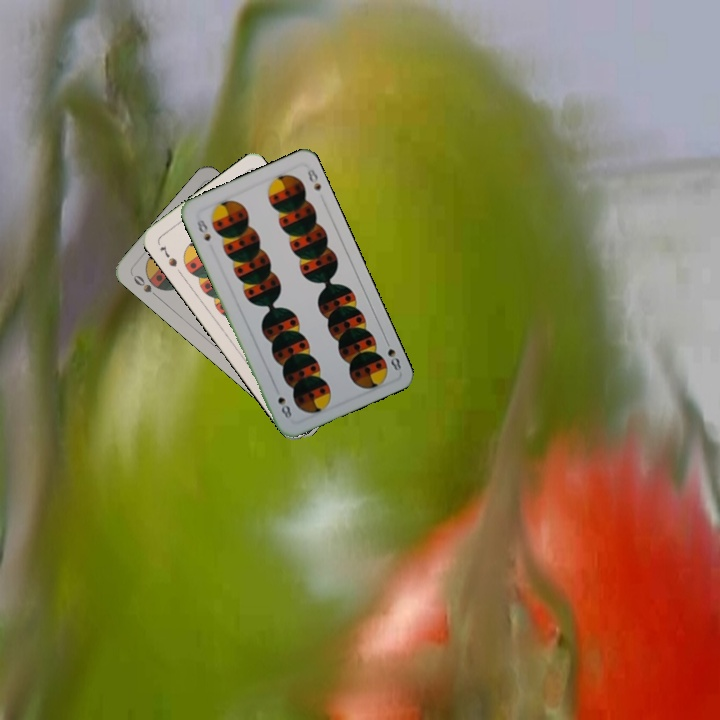S7: (156, 242, 180, 269)
S8: (381, 334, 404, 374), (193, 216, 213, 243)
SO: (127, 270, 161, 301)
